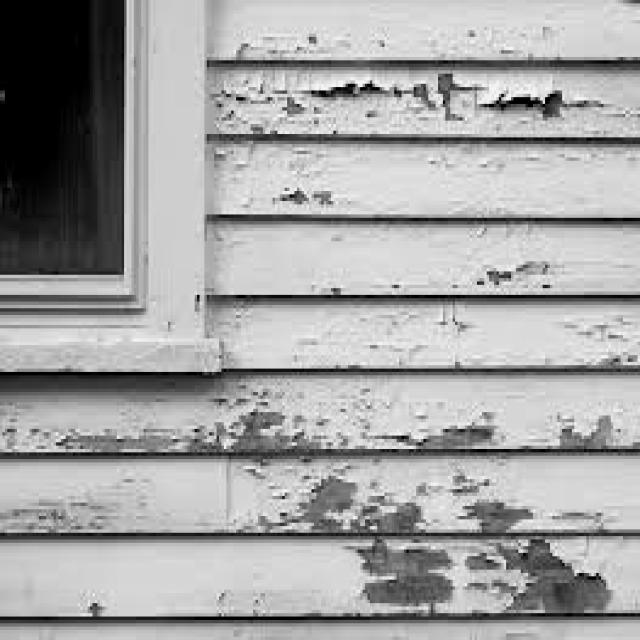peeling paint: (0, 371, 640, 640), (204, 0, 640, 369)
